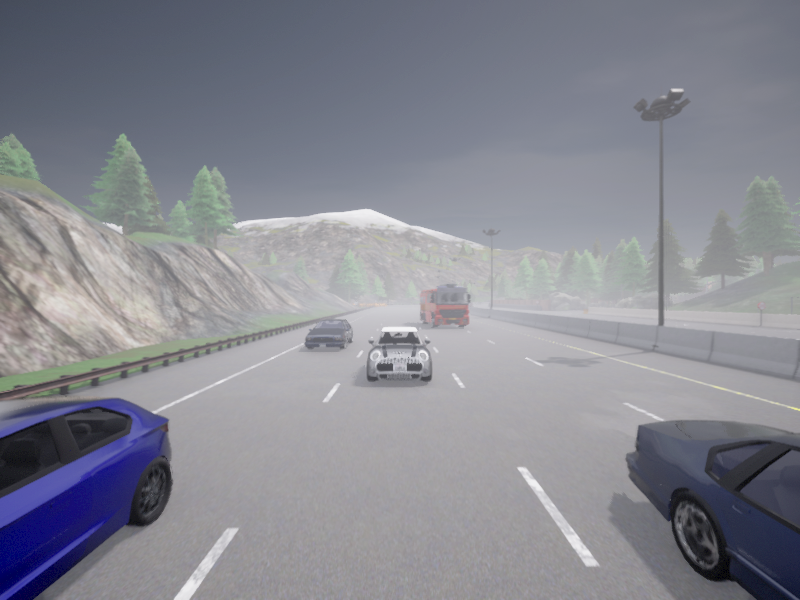vehicle: (0, 395, 171, 599), (625, 420, 799, 599), (367, 327, 431, 381), (419, 284, 470, 327), (304, 319, 353, 349), (468, 303, 471, 306), (478, 302, 482, 304), (470, 302, 472, 305)
